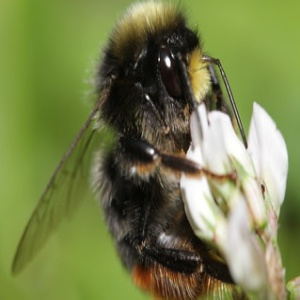bee: (87, 4, 249, 300)
